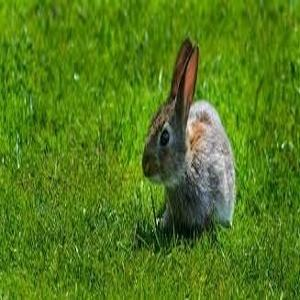rabbit: (143, 40, 237, 240)
